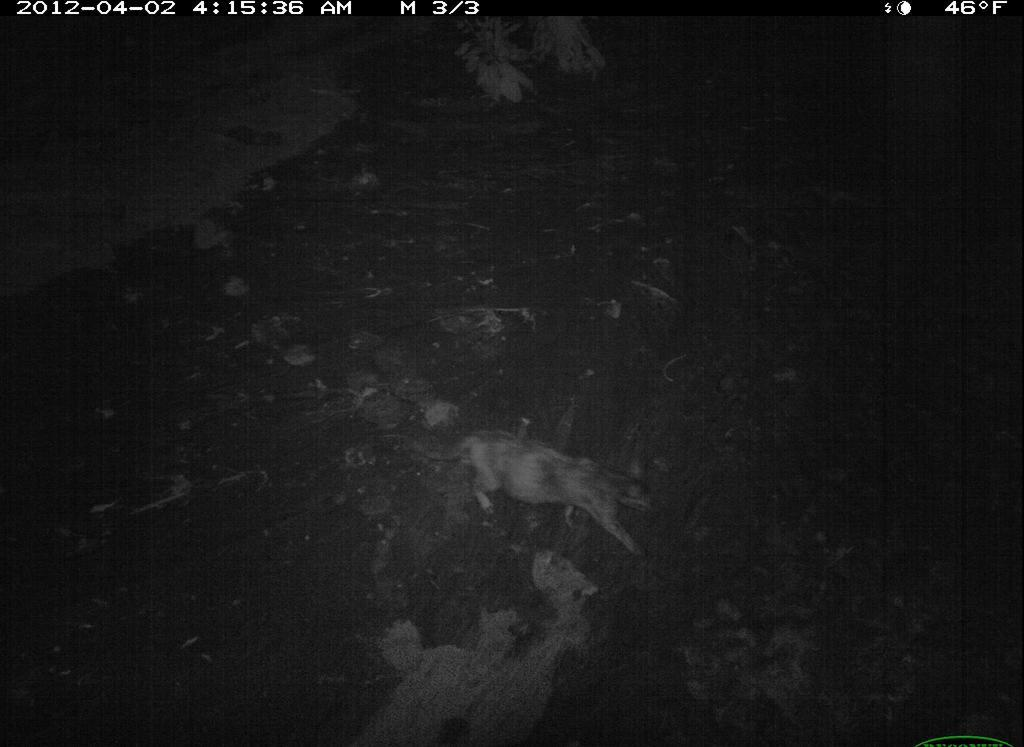cat: (406, 409, 667, 575)
